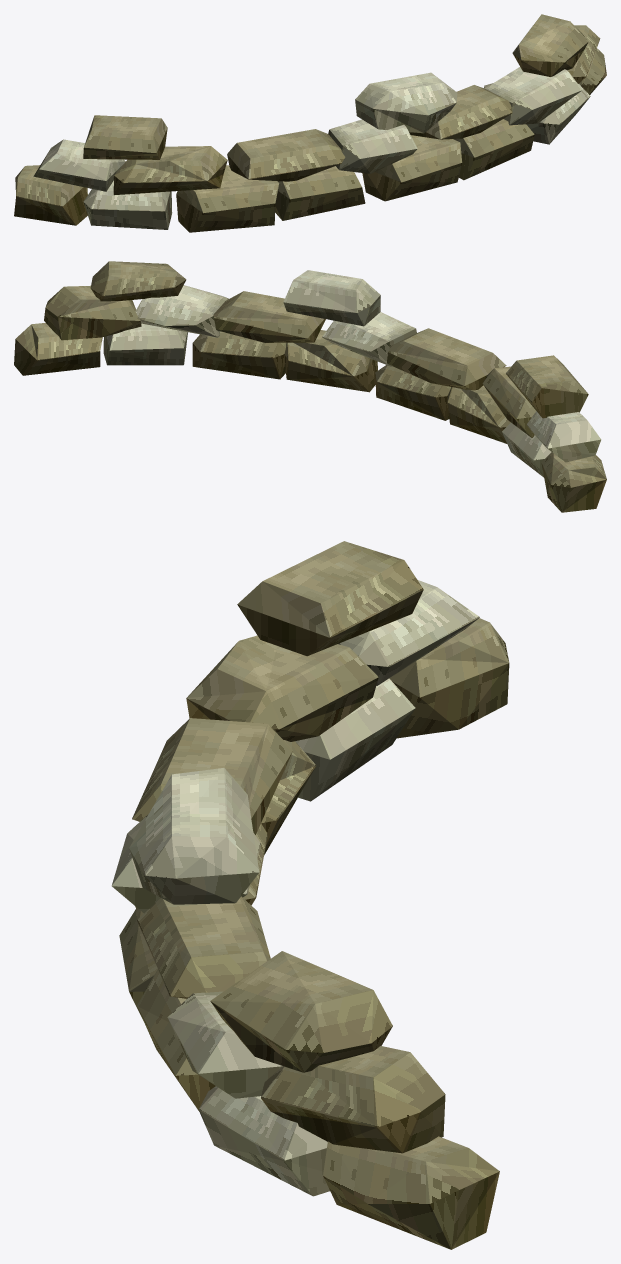
The model's file is C1SMTSNDB2_H.obj.
The picture shows the model from 3 angles, top to bottom: view 1: azimuth 30°, elevation 25°; view 2: azimuth 150°, elevation 25°; view 3: azimuth 270°, elevation 25°; orthographic projection. The views are drawn at different scales.
Visible parts, largest first — view 1: Node 4, Node 0, Node 3, Node 5; view 2: Node 0, Node 5, Node 4, Node 3; view 3: Node 5, Node 0, Node 4, Node 3.
Boxes of the visible parts, left/top/right/bottom form: Node 4: left=83, top=129, right=365, bottom=232; Node 0: left=328, top=72, right=534, bottom=201; Node 3: left=14, top=115, right=167, bottom=225; Node 5: left=484, top=14, right=606, bottom=144; Node 0: left=192, top=270, right=416, bottom=392; Node 5: left=14, top=261, right=228, bottom=375; Node 4: left=375, top=328, right=551, bottom=477; Node 3: left=506, top=355, right=606, bottom=512; Node 5: left=167, top=951, right=499, bottom=1249; Node 0: left=111, top=768, right=270, bottom=1110; Node 4: left=132, top=635, right=415, bottom=908; Node 3: left=237, top=541, right=509, bottom=738.
Bounding box in the file's own units: 6.98 × 1.18 × 2.05.
Materials: 8 (8 with a texture image).
